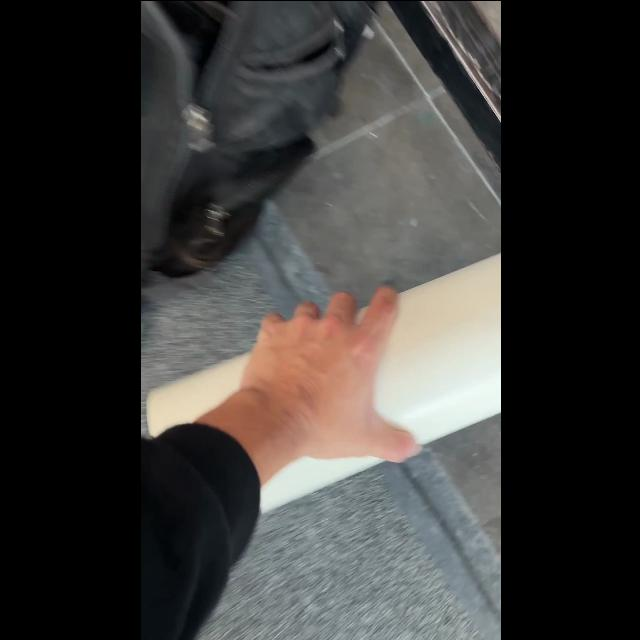CORAL: (145, 249, 499, 511)
